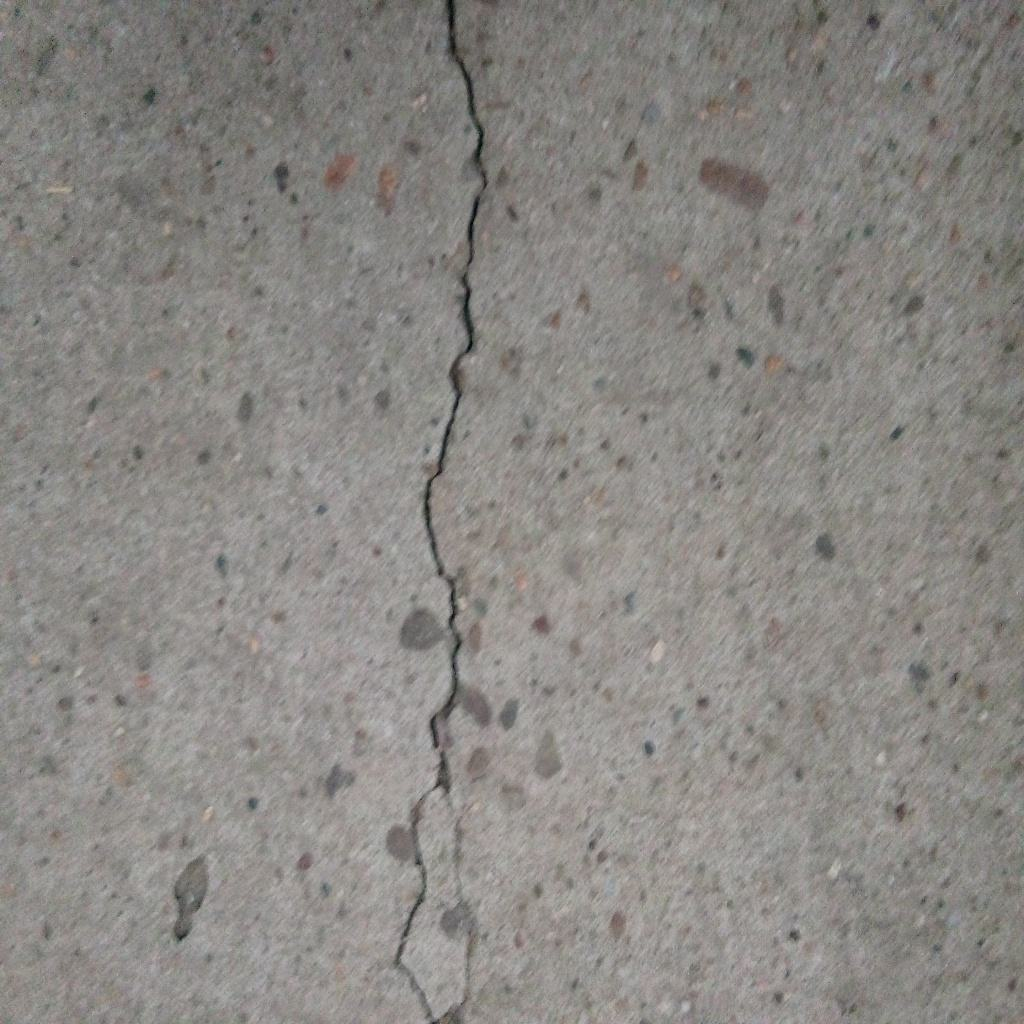Crack: (395, 1, 489, 1024)
Spalling: (172, 852, 209, 945)
